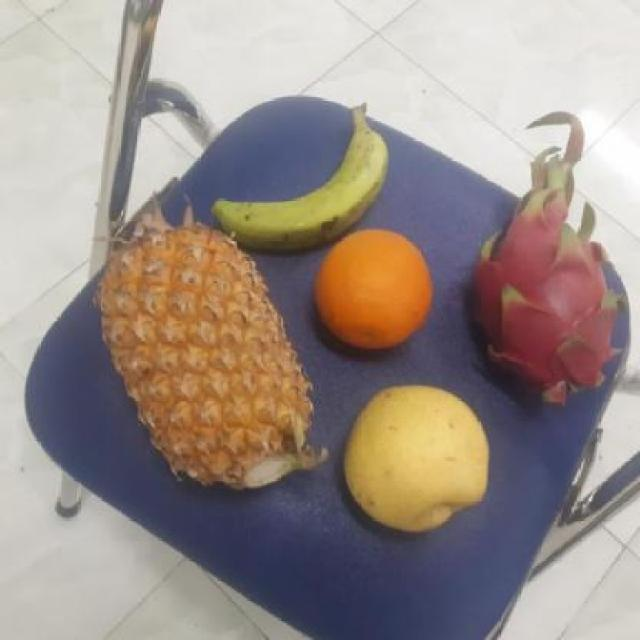banana: (207, 101, 387, 250)
dragon fruit: (459, 201, 623, 408)
oren: (308, 226, 437, 349)
pear: (335, 388, 491, 534)
pineapple: (91, 229, 318, 486)
